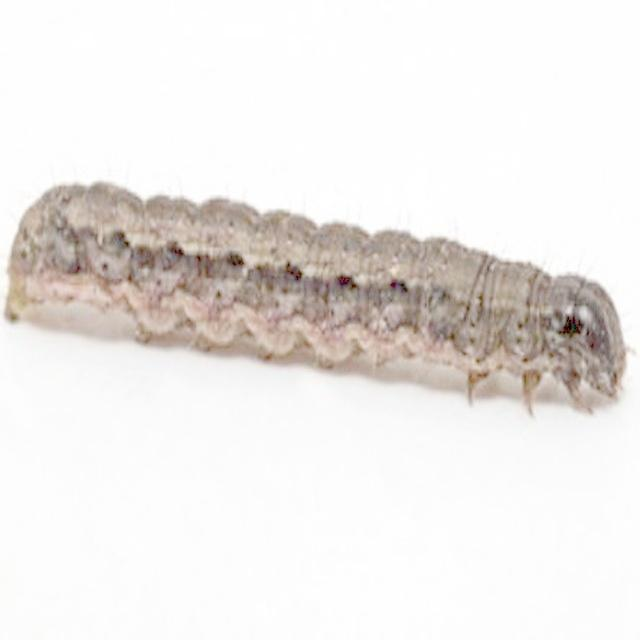gusano_cogollero: (0, 173, 632, 423)
